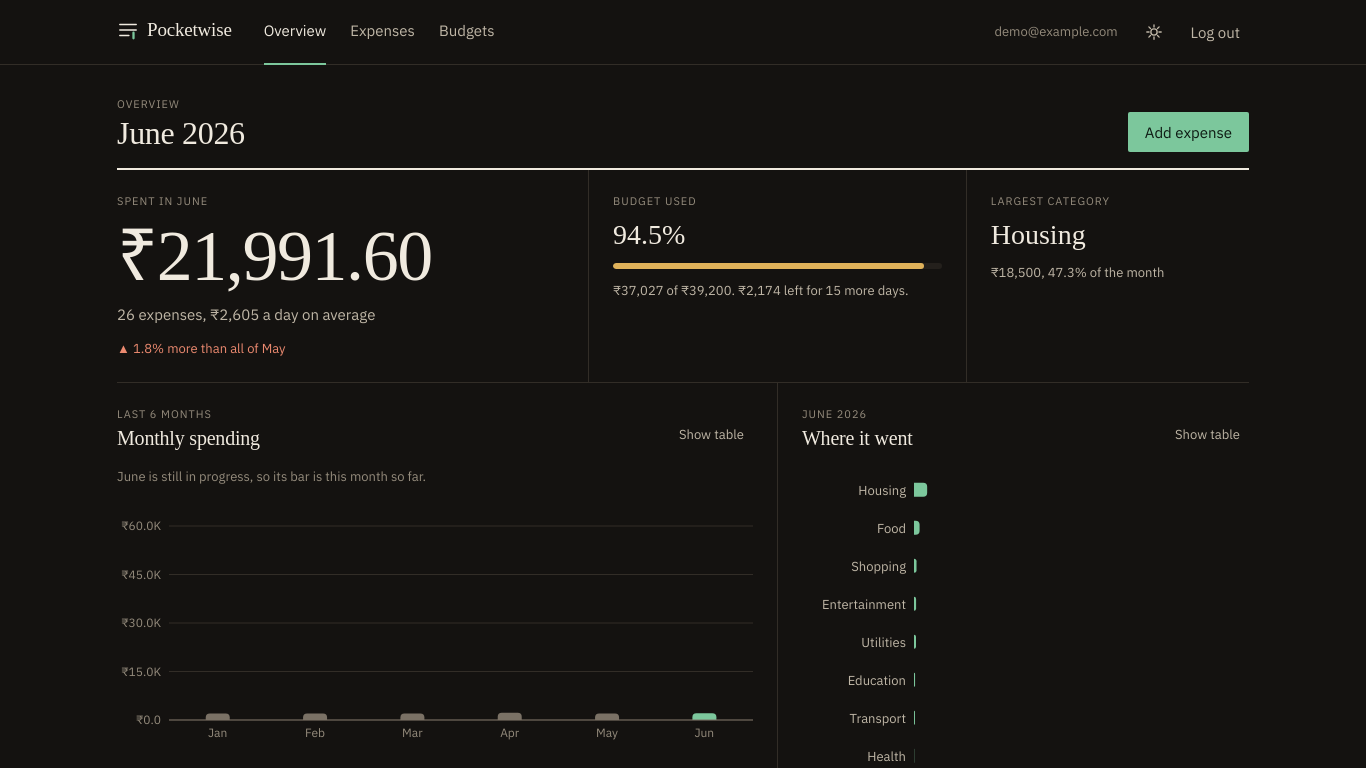
Test: dashboard › adds an expense from the dashboard and updates the total
The width and height of the screenshot is (1366, 768).
Expected: the text "Spent in June" is shown, [117, 194, 208, 208]
Click the button "Add expense" at (1188, 132), box [1128, 112, 1249, 152]
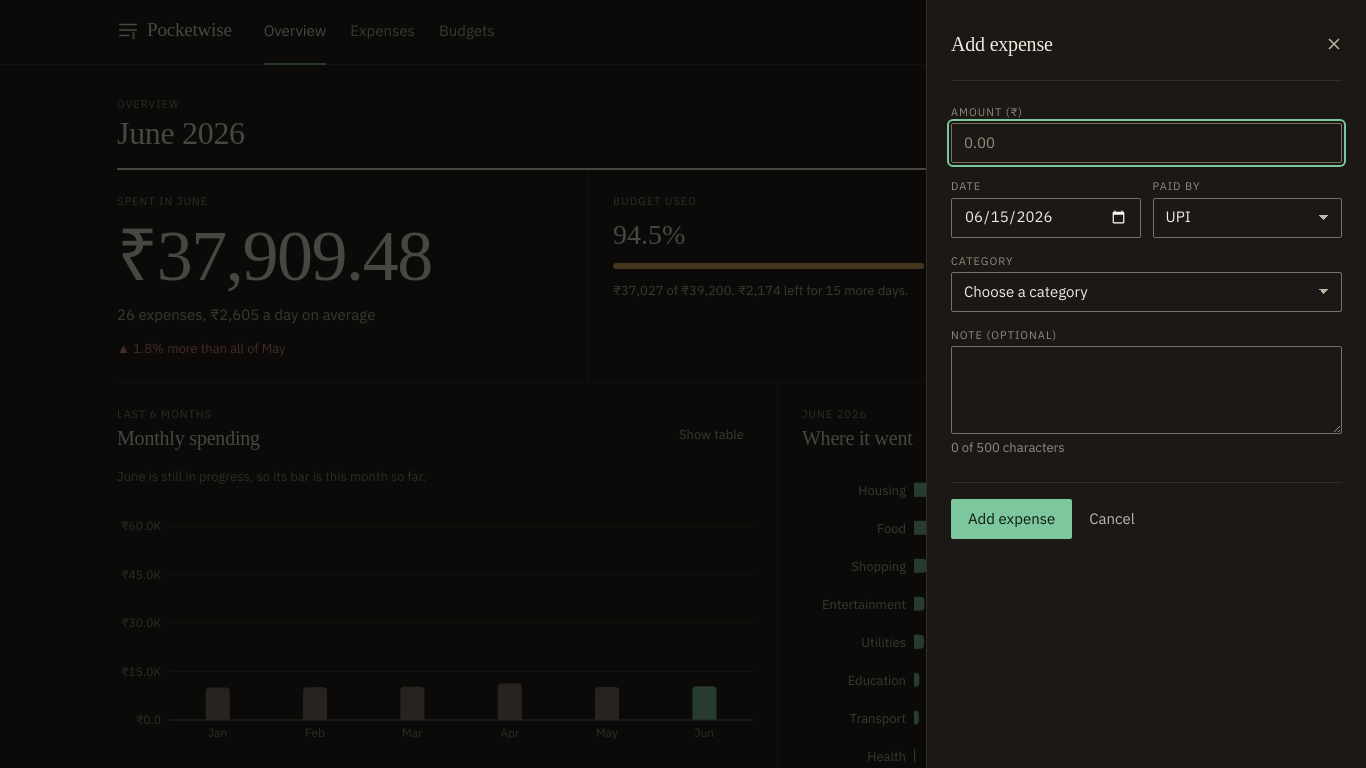
Type "1000" into the field labelled "Amount (₹)" at (1146, 143), box [951, 123, 1342, 163]
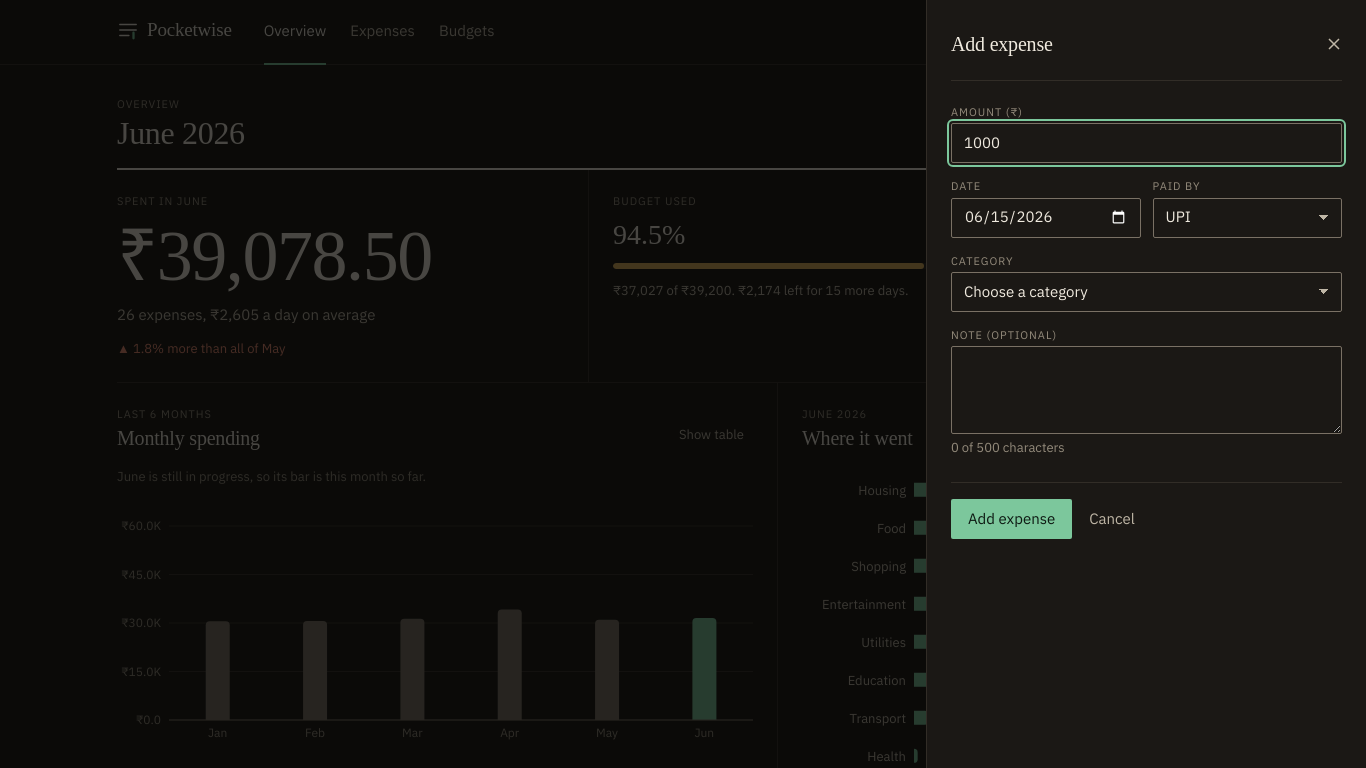
Select "Food" in the dropdown labelled "Category" at (1146, 292), box [951, 272, 1342, 312]
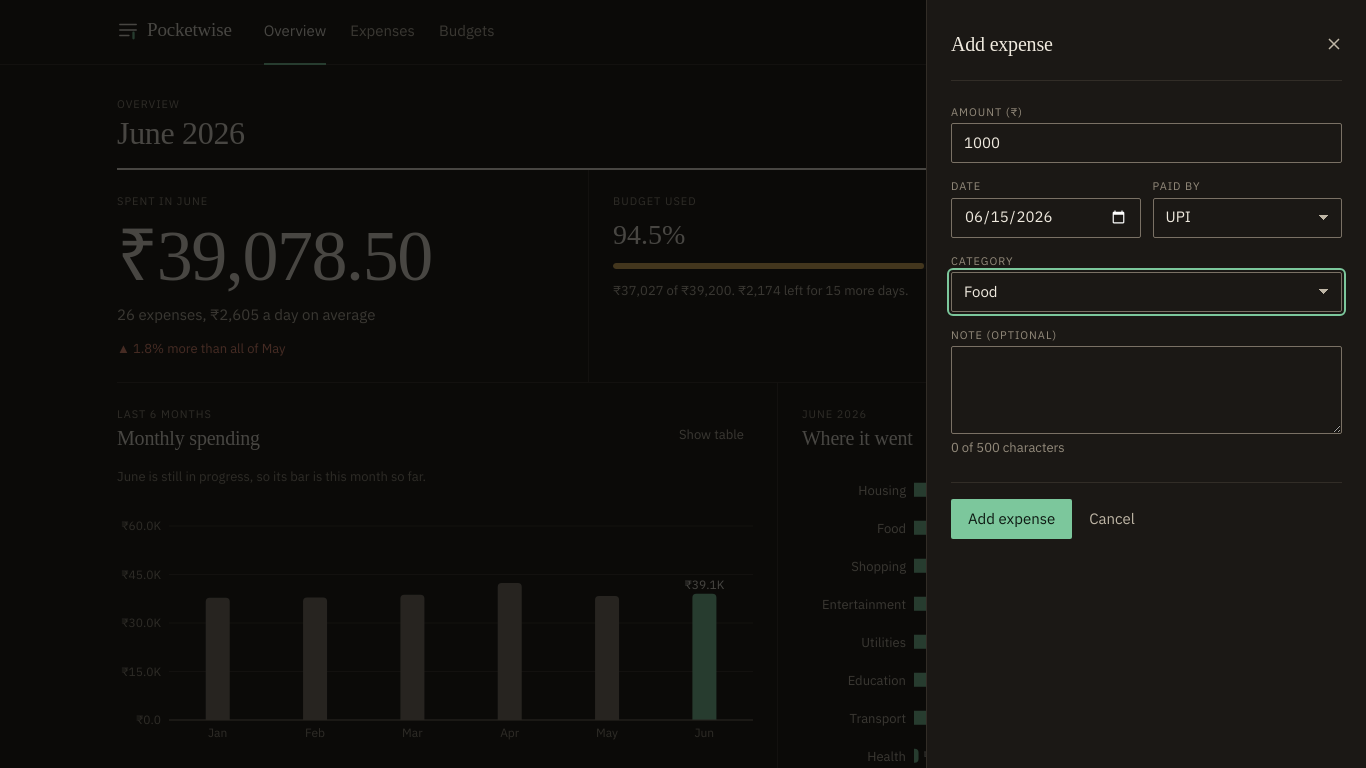
Click the button "Add expense" at (1012, 519), box [951, 499, 1072, 539]
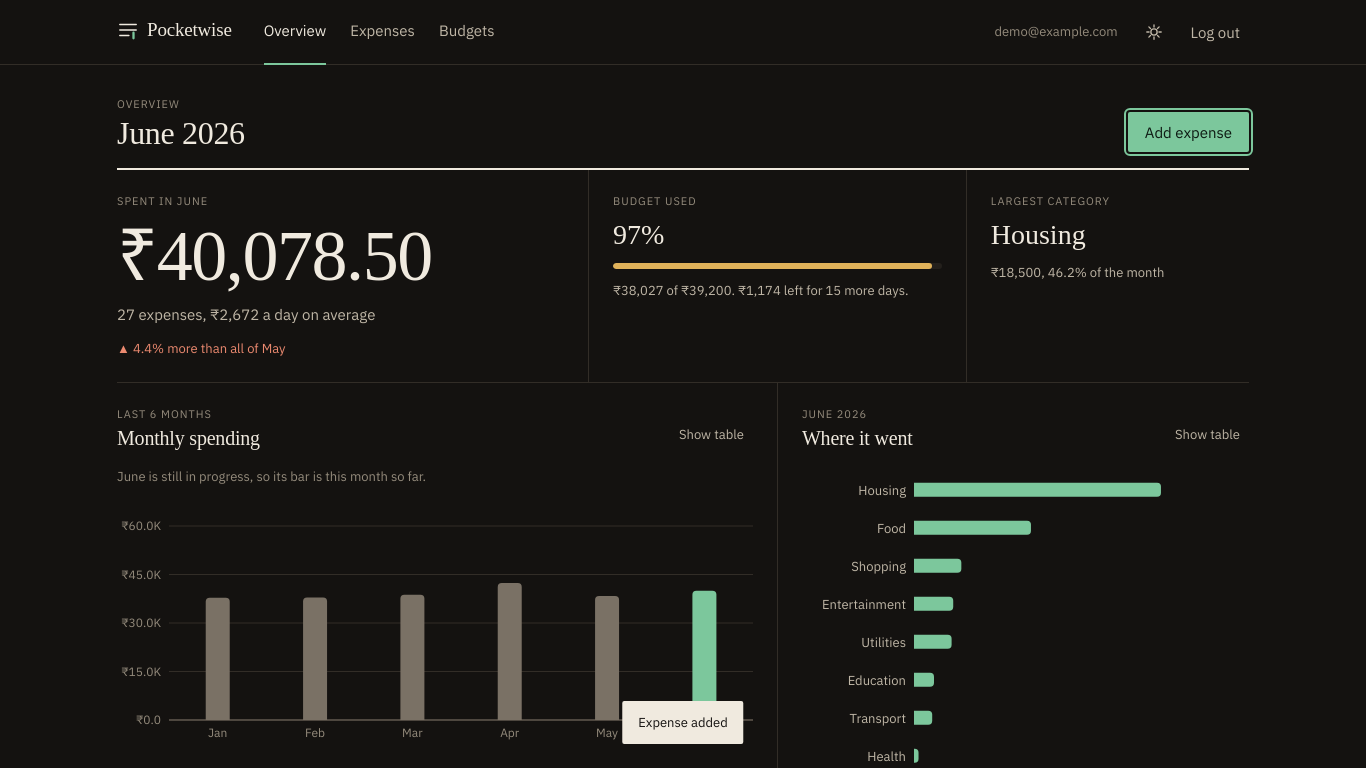
Now the text "Expense added" is shown, box [622, 700, 744, 744]
